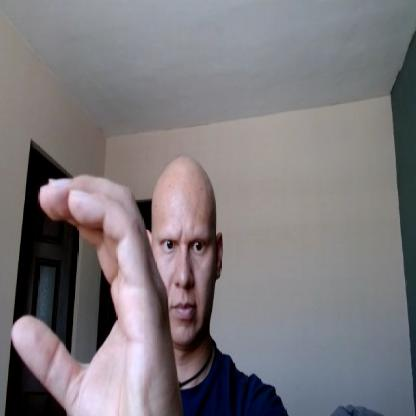C: (10, 175, 178, 416)
